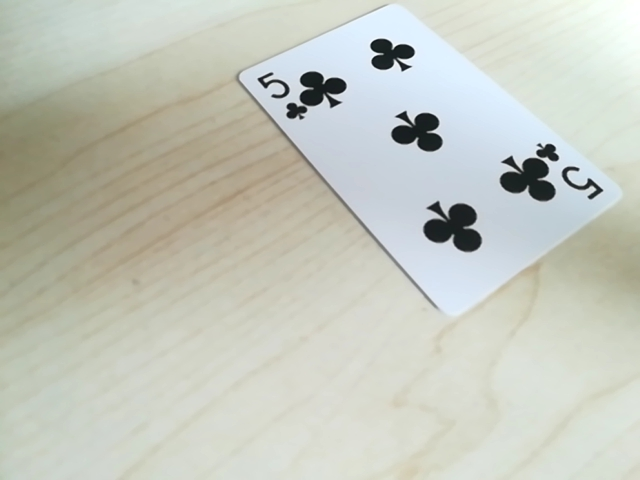mh 5: (538, 141, 602, 209), (254, 65, 313, 124)
